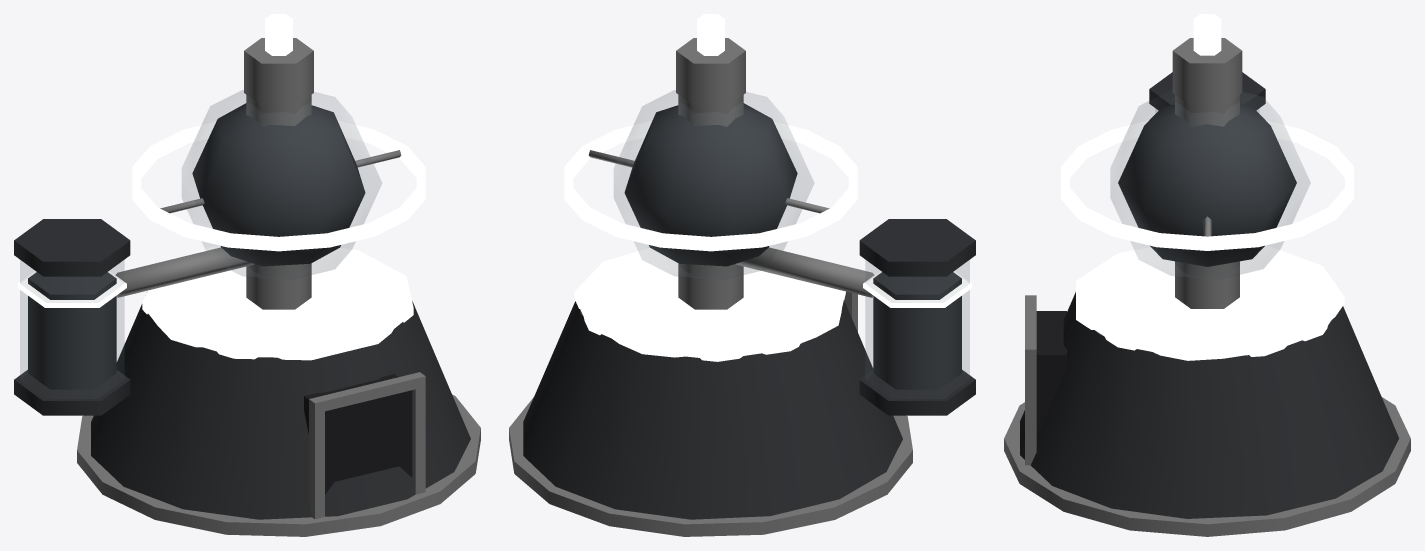
The model's file is Skin_Reactor_T1.glb.
3 views of the same model, side by side, from view 1: azimuth 30°, elevation 25°; view 2: azimuth 150°, elevation 25°; view 3: azimuth 270°, elevation 25° (orthographic).
Parts seen in each view (by area): view 1: Skin_Reactor_T1; view 2: Skin_Reactor_T1; view 3: Skin_Reactor_T1.
Part boxes in pixels (x1,y1,x2,y2): Skin_Reactor_T1: (14, 14, 480, 536); Skin_Reactor_T1: (509, 14, 975, 536); Skin_Reactor_T1: (1004, 14, 1410, 536).
Size of the model in its own units: 4.23 by 4.1 by 3.5.
